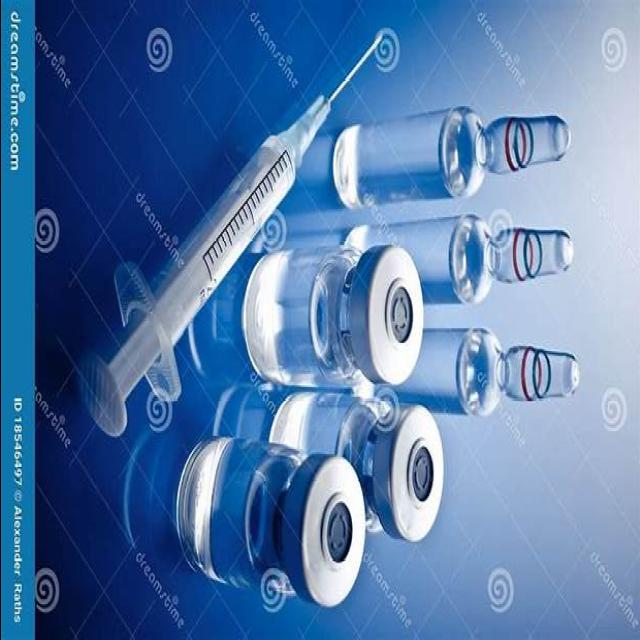vial: (298, 459, 362, 602), (388, 406, 441, 552), (369, 253, 412, 378)
